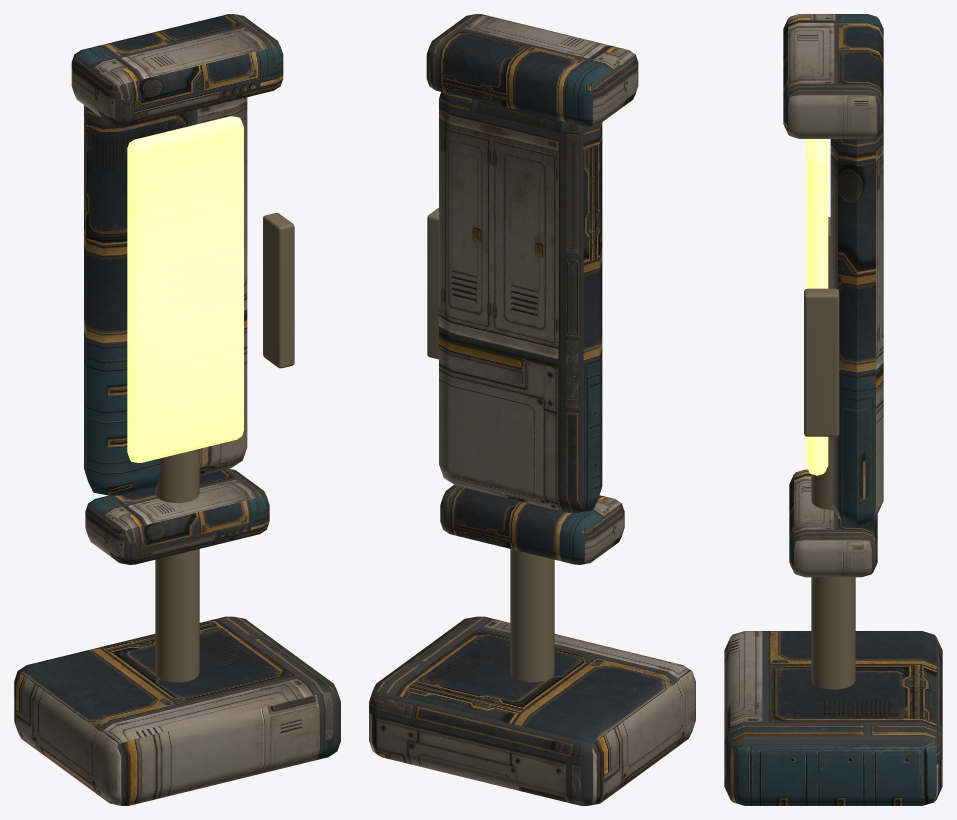
Rendered from hp_light_residential_lamp_warm.glb.
The picture shows the model from 3 angles, left to right: view 1: azimuth 30°, elevation 25°; view 2: azimuth 150°, elevation 25°; view 3: azimuth 270°, elevation 25°; orthographic projection.
Parts seen in each view (by area): view 1: bottom_cap_dark, front_glowing_lens, lamp_back_housing, small_side_handle; view 2: bottom_cap_dark, lamp_back_housing, small_side_handle; view 3: bottom_cap_dark, lamp_back_housing, small_side_handle, front_glowing_lens.
Boxes of the visible parts, x1,y1,x2,y2 form: bottom_cap_dark: (14,14,340,805); front_glowing_lens: (127,116,243,462); lamp_back_housing: (84,97,247,495); small_side_handle: (155,213,294,682); bottom_cap_dark: (369,14,695,805); lamp_back_housing: (439,92,602,512); small_side_handle: (427,208,554,682); bottom_cap_dark: (724,14,942,805); lamp_back_housing: (830,124,883,525); small_side_handle: (804,217,855,689); front_glowing_lens: (806,139,828,475).
Size of the model in its own units: 0.5152 by 1.48 by 0.4145.
Materials: 4 (3 with a texture image).
